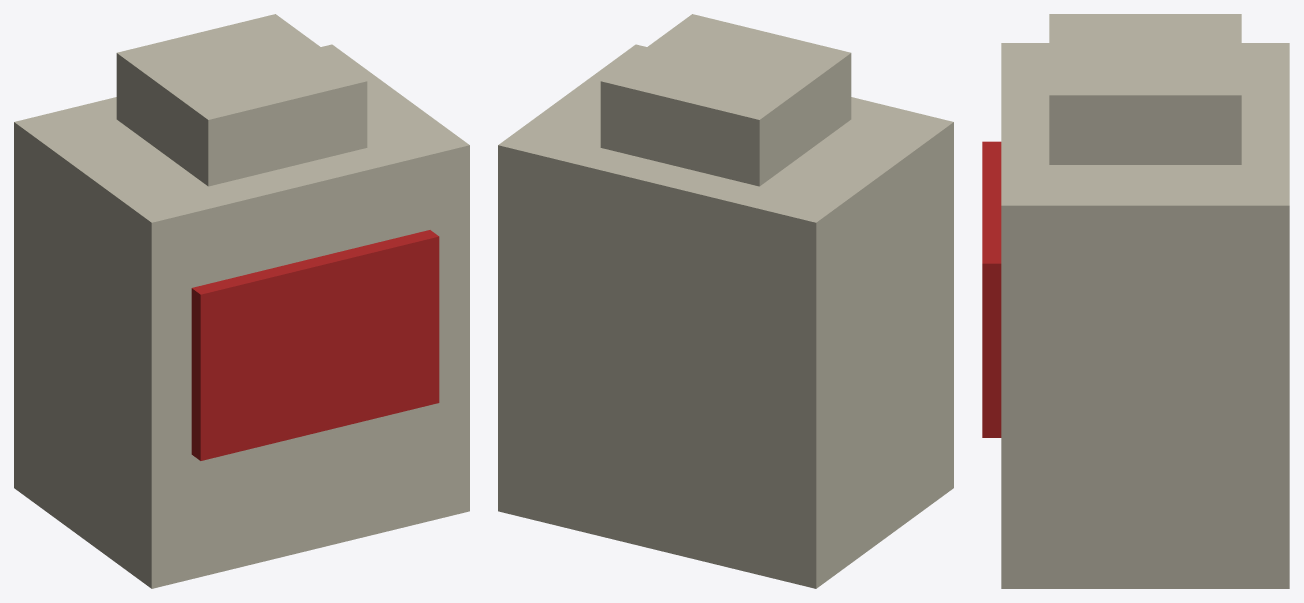
Rendered from akpakpa.glb.
3 views of the same model, side by side, from view 1: azimuth 30°, elevation 25°; view 2: azimuth 150°, elevation 25°; view 3: azimuth 270°, elevation 25° (orthographic). The views are drawn at different scales.
Visible parts, largest first — view 1: akpakpa; view 2: akpakpa; view 3: akpakpa.
Part boxes in pixels (x1,y1,x2,y2): akpakpa: [14, 14, 469, 588]; akpakpa: [498, 14, 953, 588]; akpakpa: [982, 14, 1289, 588].
Size of the model in its own units: 0.4 by 0.52 by 0.32.
